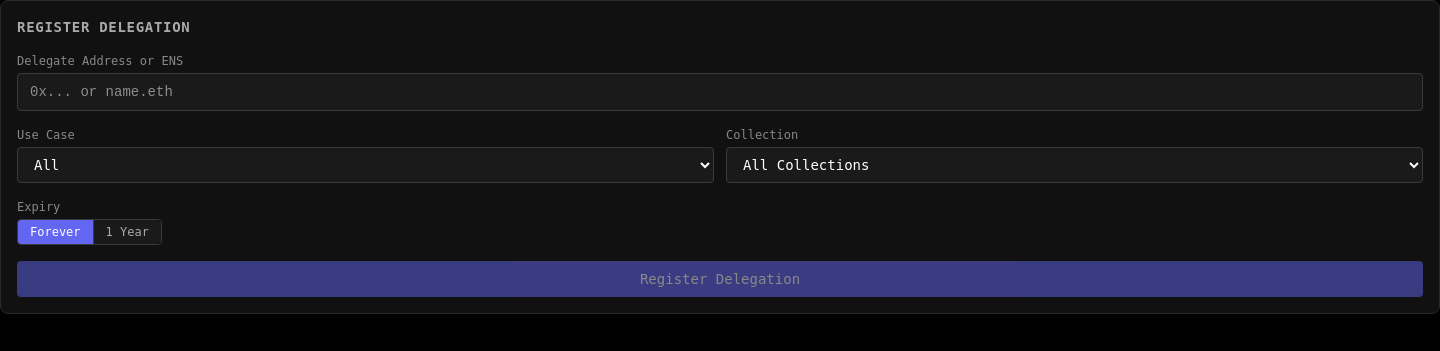
Test: RegisterForm chain ID guard › blocks submission and shows error on wrong chain
This screenshot has width=1440, height=351.
Type "0xabcdefabcdefabcdefabcdefabcdefabcdefabcd" into the field with placeholder "0x... or name.eth" at [720, 92], box [17,73,1423,111]
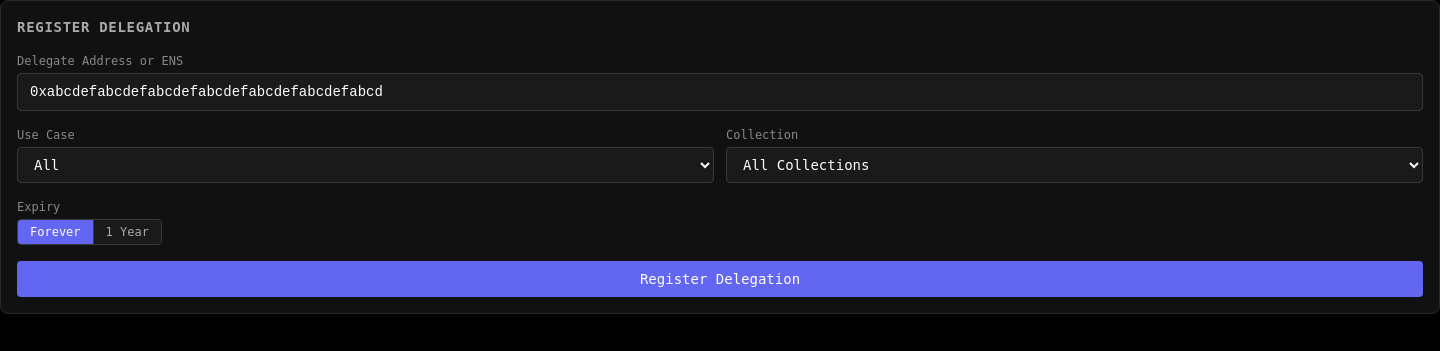
Click the button "Register Delegation" at [720, 279], box [17,261,1423,297]
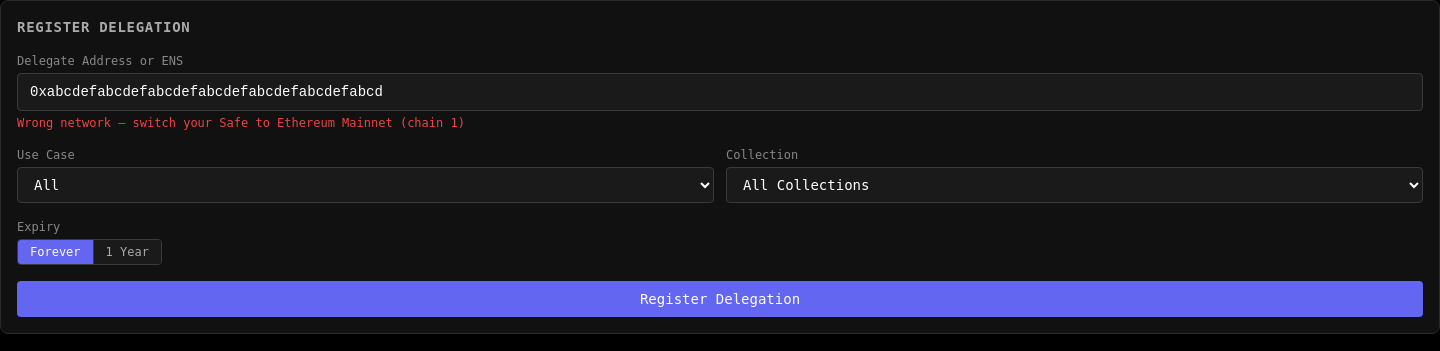
expect the text "Wrong network — switch your Safe to Ethereum Mainnet (chain 1)" is shown: met, box [17,116,465,130]
